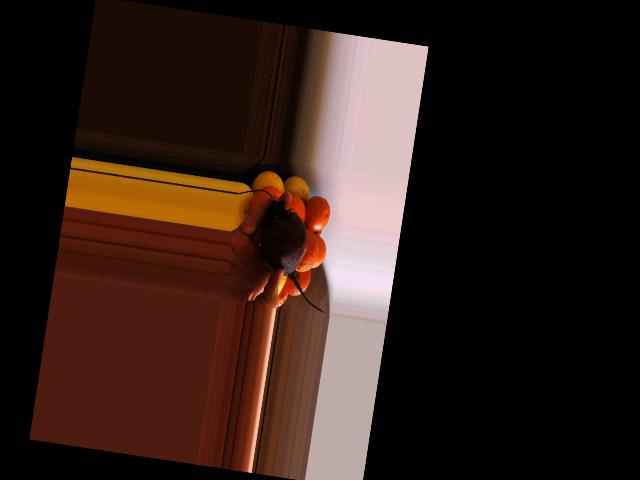beet: (251, 199, 339, 312)
